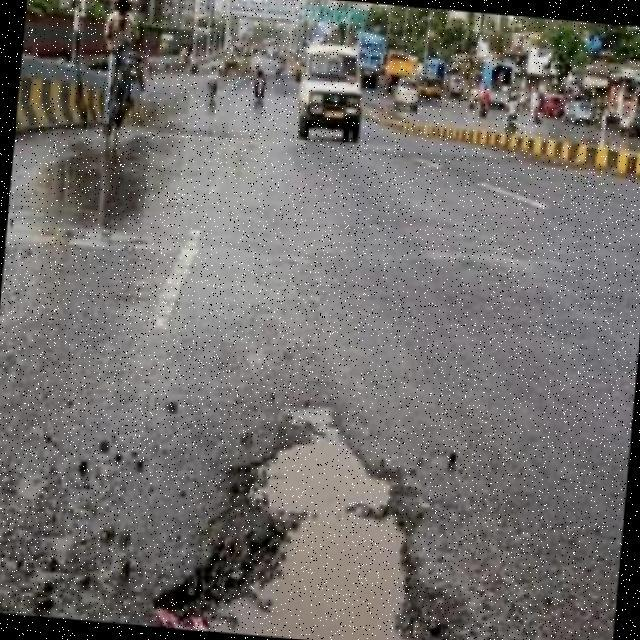Pothole: (155, 406, 456, 640)
